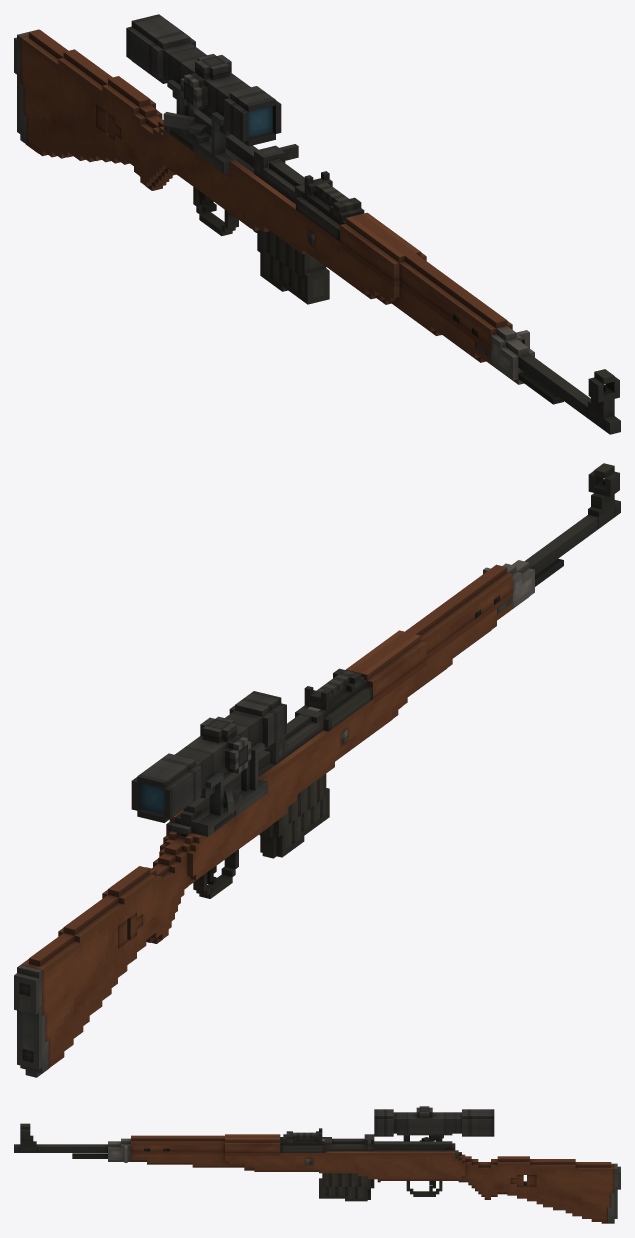
The model's file is RD_GEWEHR43.glb.
3 views of the same model, one above another, from view 1: azimuth 30°, elevation 25°; view 2: azimuth 150°, elevation 25°; view 3: azimuth 270°, elevation 25° (orthographic). The views are drawn at different scales.
Parts seen in each view (by area): view 1: GEWEHR43, GEWEHR43_SCOPE, GEWEHR43_CLIP, GEWEHR43_BOLT; view 2: GEWEHR43, GEWEHR43_SCOPE, GEWEHR43_CLIP, GEWEHR43_BOLT; view 3: GEWEHR43, GEWEHR43_SCOPE, GEWEHR43_CLIP, GEWEHR43_BOLT.
Boxes of the visible parts, x1,y1,x2,y2 form: GEWEHR43: (14,29,620,434); GEWEHR43_SCOPE: (126,14,281,173); GEWEHR43_CLIP: (257,230,329,304); GEWEHR43_BOLT: (254,144,304,203); GEWEHR43: (14,463,620,1077); GEWEHR43_SCOPE: (131,691,286,836); GEWEHR43_CLIP: (259,774,329,858); GEWEHR43_BOLT: (264,707,323,764); GEWEHR43: (14,1123,620,1223); GEWEHR43_SCOPE: (374,1106,494,1144); GEWEHR43_CLIP: (319,1173,374,1201); GEWEHR43_BOLT: (322,1134,374,1151).
Bounding box in the file's own units: 0.1126 × 0.374 × 1.84.
1 material, 1 textured.
